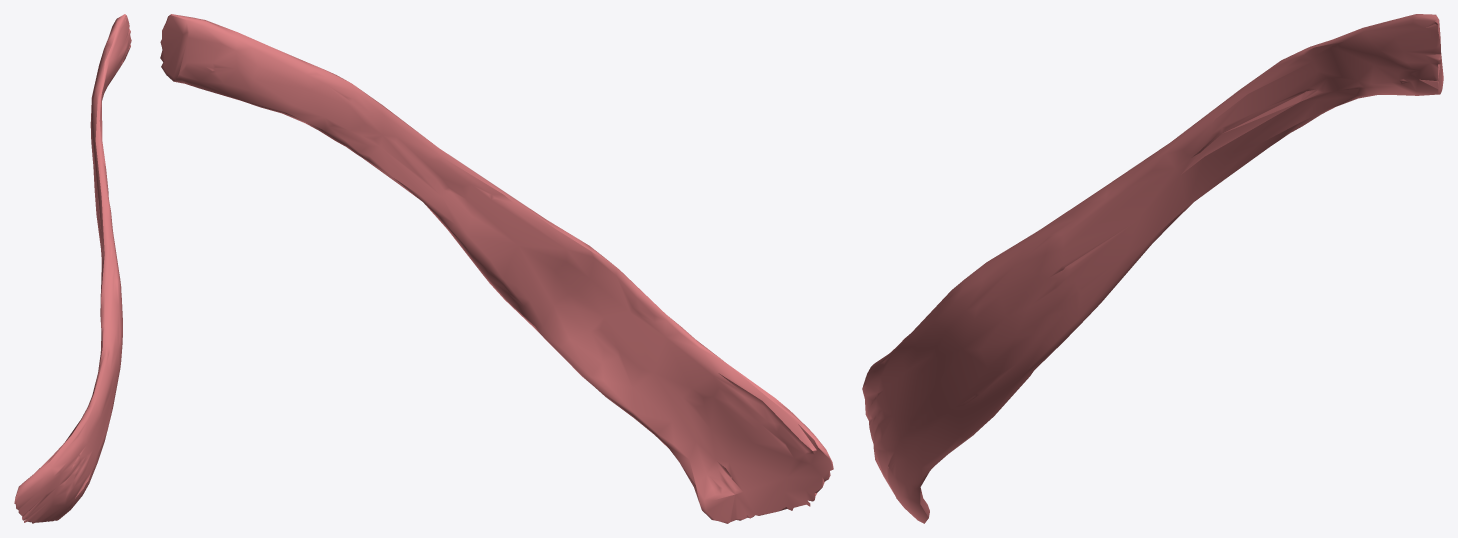
3 renders of one model, left to right at view 1: azimuth 30°, elevation 25°; view 2: azimuth 150°, elevation 25°; view 3: azimuth 270°, elevation 25°, orthographic. The views are drawn at different scales.
Parts seen in each view (by area): view 1: FJ1446M; view 2: FJ1446M; view 3: FJ1446M.
Boxes of the visible parts, <box> form: FJ1446M: <box>14,14,131,523</box>; FJ1446M: <box>160,14,833,523</box>; FJ1446M: <box>862,14,1443,523</box>.
Size of the model in its own units: 0.1322 by 0.1722 by 0.1312.
